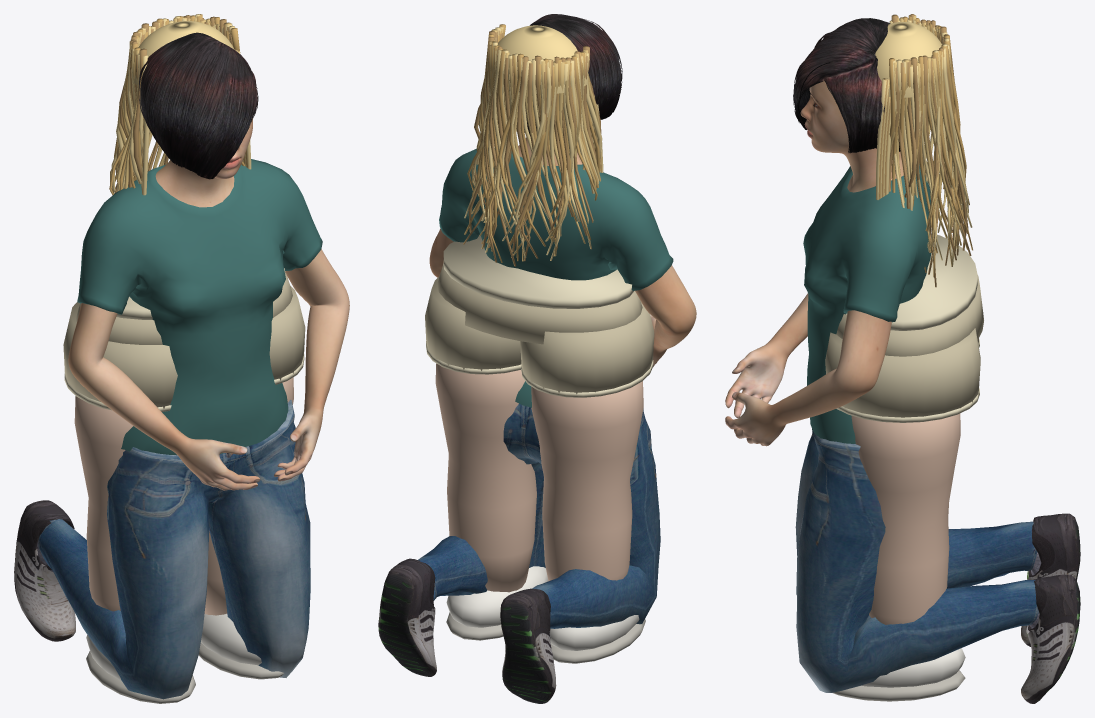
Rendered from riley-blonde-kneeling.glb.
The picture shows the model from 3 angles, left to right: view 1: azimuth 30°, elevation 25°; view 2: azimuth 150°, elevation 25°; view 3: azimuth 270°, elevation 25°; orthographic projection. The views are drawn at different scales.
Visible parts, largest first — view 1: female_casualsuit01, Riley | anatomical body, bob01, Riley exposed leg -1, shoes05, Riley loose short leg -1, Riley loose short leg 1, Riley sneaker 1, Riley shorts body, Riley sculpted blonde crown, Riley exposed leg 1, Riley sneaker sole -1 (+2 smaller); view 2: female_casualsuit01, Riley exposed leg -1, Riley exposed leg 1, shoes05, Riley loose short leg -1, Riley shorts waistband, Riley shorts body, Riley loose short leg 1, Riley | anatomical body, bob01, Riley sneaker 1, Riley sculpted blonde crown (+12 smaller); view 3: female_casualsuit01, Riley exposed leg 1, Riley | anatomical body, shoes05, bob01, Riley loose short leg 1, Riley shorts waistband, Riley shorts body, Riley sculpted blonde crown, Riley sneaker 1, Riley sneaker sole 1, Riley short hem stitching 1 (+2 smaller).
Boxes of the visible parts, x1,y1,x2,y2 form: female_casualsuit01: (38, 159, 322, 699); Riley | anatomical body: (68, 118, 349, 490); bob01: (139, 32, 258, 179); Riley exposed leg -1: (74, 396, 132, 611); shoes05: (14, 500, 75, 641); Riley loose short leg -1: (63, 302, 177, 408); Riley loose short leg 1: (269, 286, 305, 380); Riley sneaker 1: (201, 613, 261, 665); Riley shorts body: (76, 273, 292, 344); Riley sculpted blonde crown: (133, 21, 234, 85); Riley exposed leg 1: (204, 377, 293, 615); Riley sneaker sole -1: (86, 651, 195, 703); female_casualsuit01: (418, 148, 673, 628); Riley exposed leg -1: (531, 381, 643, 581); Riley exposed leg 1: (435, 363, 536, 592); shoes05: (378, 558, 556, 703); Riley loose short leg -1: (520, 302, 654, 394); Riley shorts waistband: (443, 235, 633, 308); Riley shorts body: (436, 263, 642, 344); Riley loose short leg 1: (425, 276, 521, 370); Riley | anatomical body: (429, 137, 696, 366); bob01: (524, 14, 622, 135); Riley sneaker 1: (446, 566, 548, 627); Riley sculpted blonde crown: (498, 25, 588, 93); female_casualsuit01: (795, 164, 1038, 692); Riley exposed leg 1: (851, 413, 960, 624); Riley | anatomical body: (725, 80, 903, 446); shoes05: (1021, 513, 1080, 703); bob01: (793, 18, 900, 153); Riley loose short leg 1: (825, 328, 980, 417); Riley shorts waistband: (846, 233, 977, 330); Riley shorts body: (836, 275, 983, 356); Riley sculpted blonde crown: (875, 22, 941, 97); Riley sneaker 1: (862, 648, 965, 687); Riley sneaker sole 1: (832, 670, 965, 701); Riley short hem stitching 1: (836, 387, 979, 422).
Bounding box in the file's own units: 0.569 × 1.29 × 0.6419.
19 materials, 8 textured.
